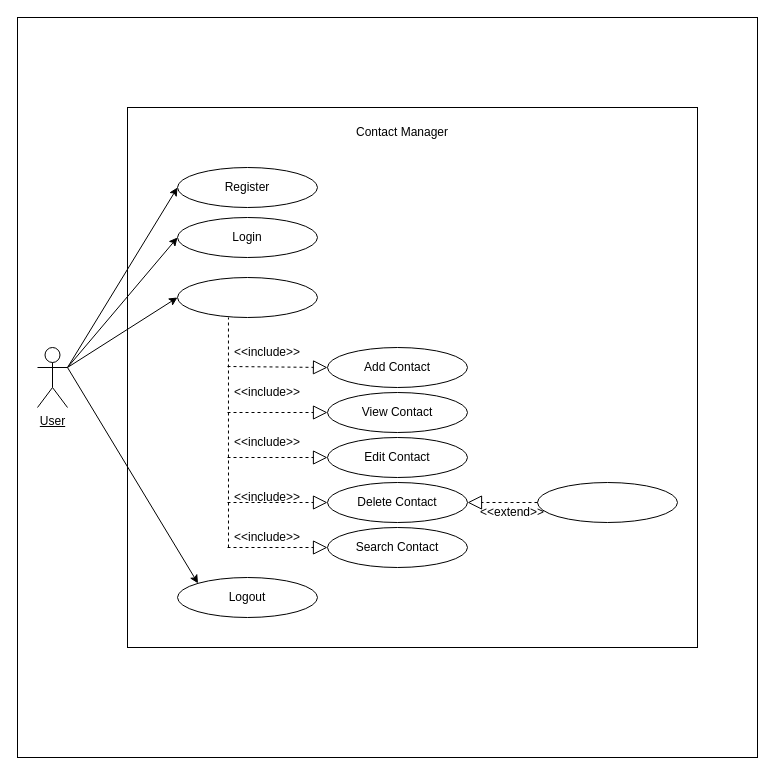
Some shapes in this 775 by 775 pixel diagram are drawn without their labels. Here are the shapes that lost their labels. From the top down, the centre of each, then its label:
At point (247, 297): "Manage Contacts".
At point (607, 502): "Delete Confirmation".
